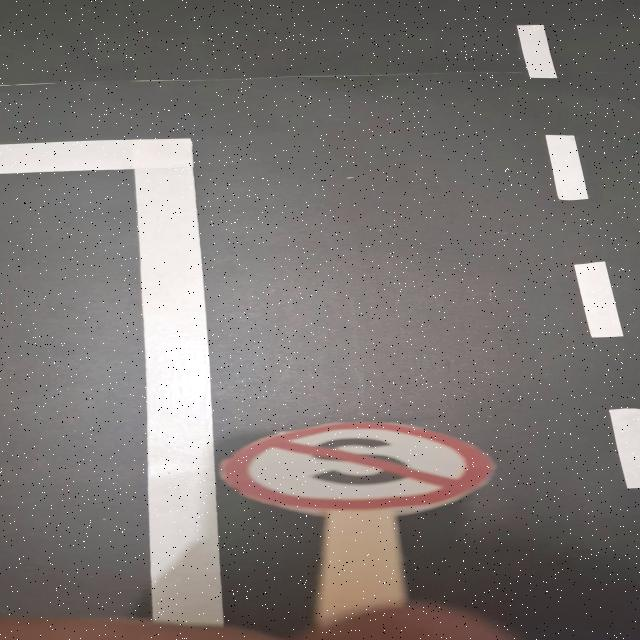Rambu Berhenti: (218, 422, 500, 512)
